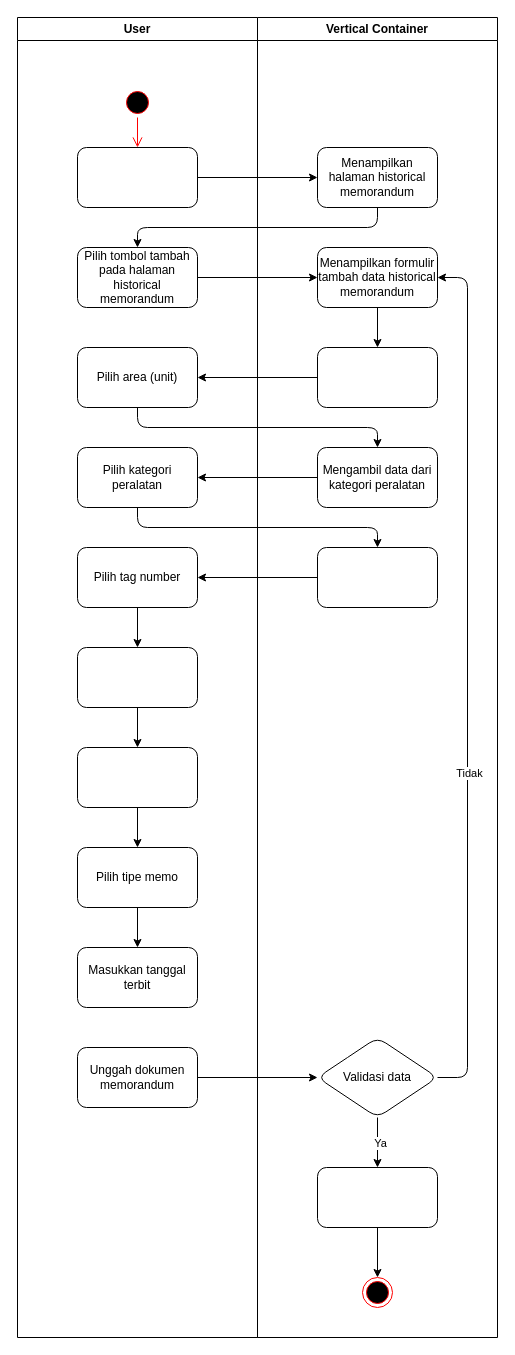
The diagram is 515 pixels wide and 1355 high, and some of its shapes have lost their labels. Here are the shapes that lost their labels. From the top down, the box of each, then its label:
(76, 146, 198, 208): Pilih fitur historical memorandum
(316, 346, 438, 408): Mengambil data dari unit
(316, 546, 438, 608): Mengambil data dari tag number
(76, 646, 198, 708): Masukkan nomor dokumen
(76, 746, 198, 808): Masukkan perihal
(316, 1166, 438, 1228): Menyimpan data historical mrmorandum
